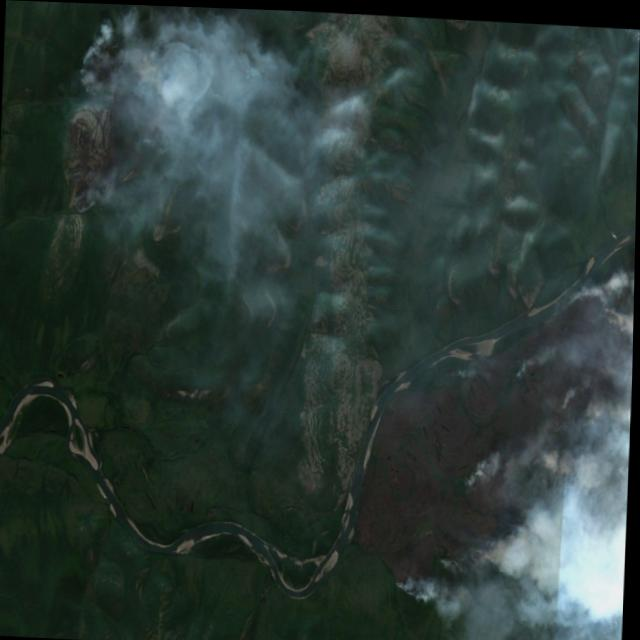fire: (396, 262, 636, 611), (61, 37, 201, 225)
